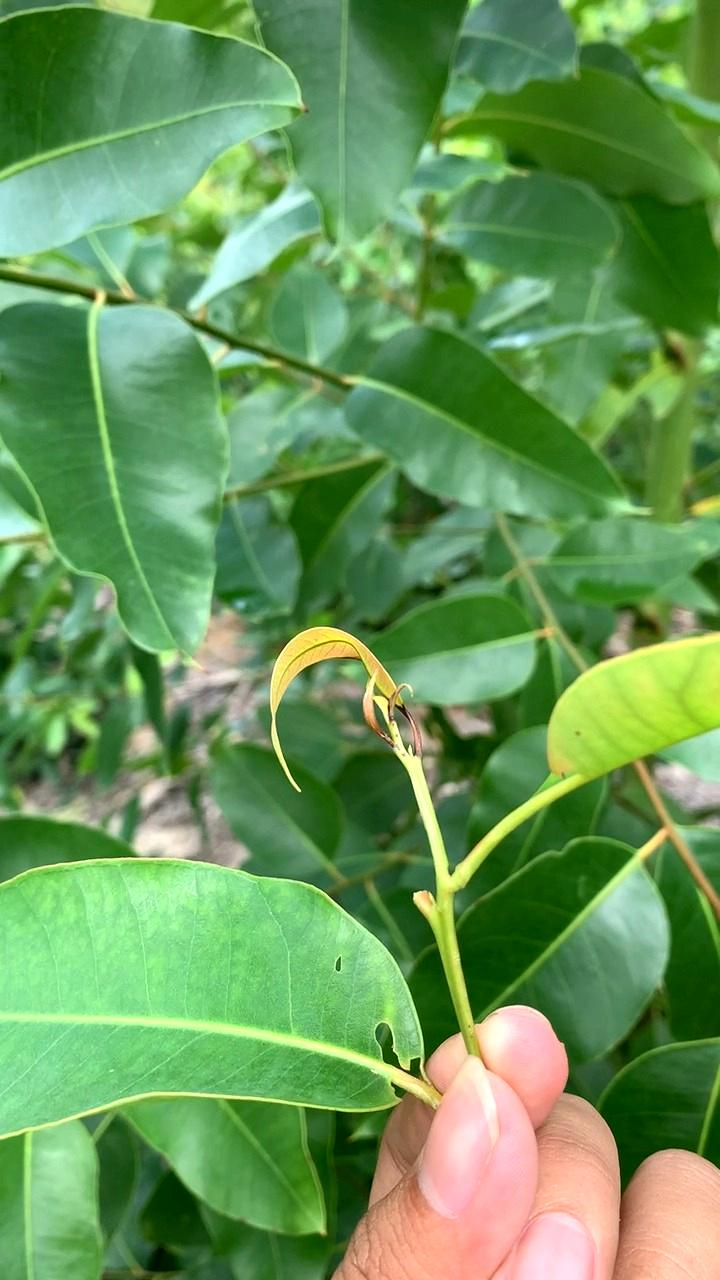Helopeltis-Withered Sprout: (255, 606, 443, 811)
